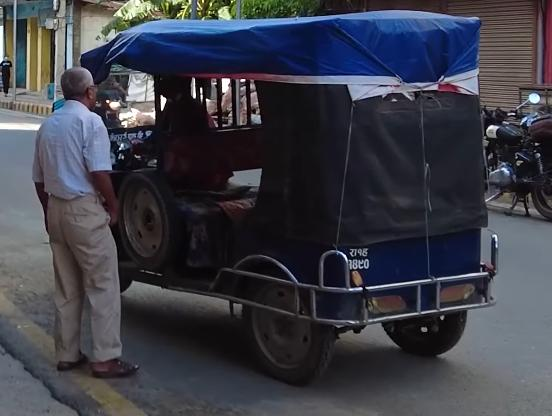e-rickshaw: (59, 12, 503, 368)
